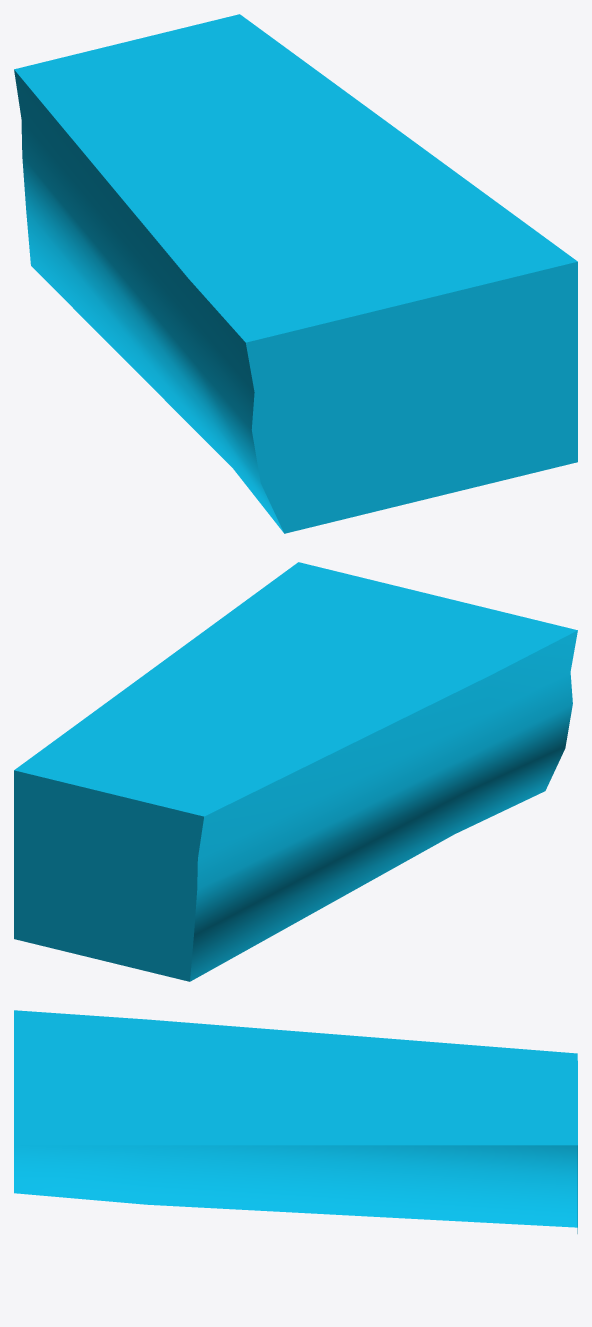
The model's file is woda_1_3_2.FBX.
3 renders of one model, top to bottom at view 1: azimuth 30°, elevation 25°; view 2: azimuth 150°, elevation 25°; view 3: azimuth 270°, elevation 25°, orthographic. The views are drawn at different scales.
Parts seen in each view (by area): view 1: woda_1_3_2; view 2: woda_1_3_2; view 3: woda_1_3_2.
Part boxes in pixels (box(x1,y1,x2,y2)): woda_1_3_2: box(14, 14, 577, 533); woda_1_3_2: box(14, 562, 577, 981); woda_1_3_2: box(14, 1010, 577, 1233).
Size of the model in its own units: 8.6 by 4.96 by 15.17.
